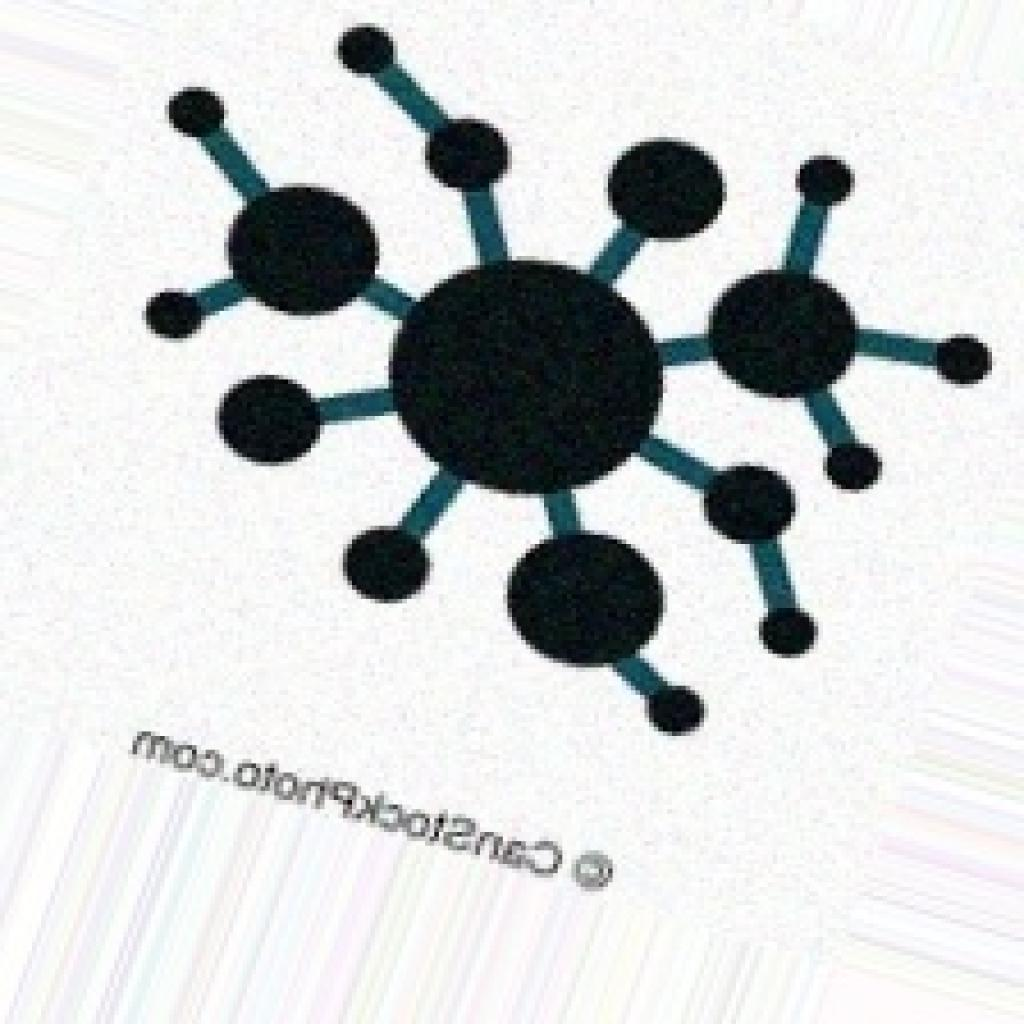Sphericalbacteria: (137, 18, 992, 736)
